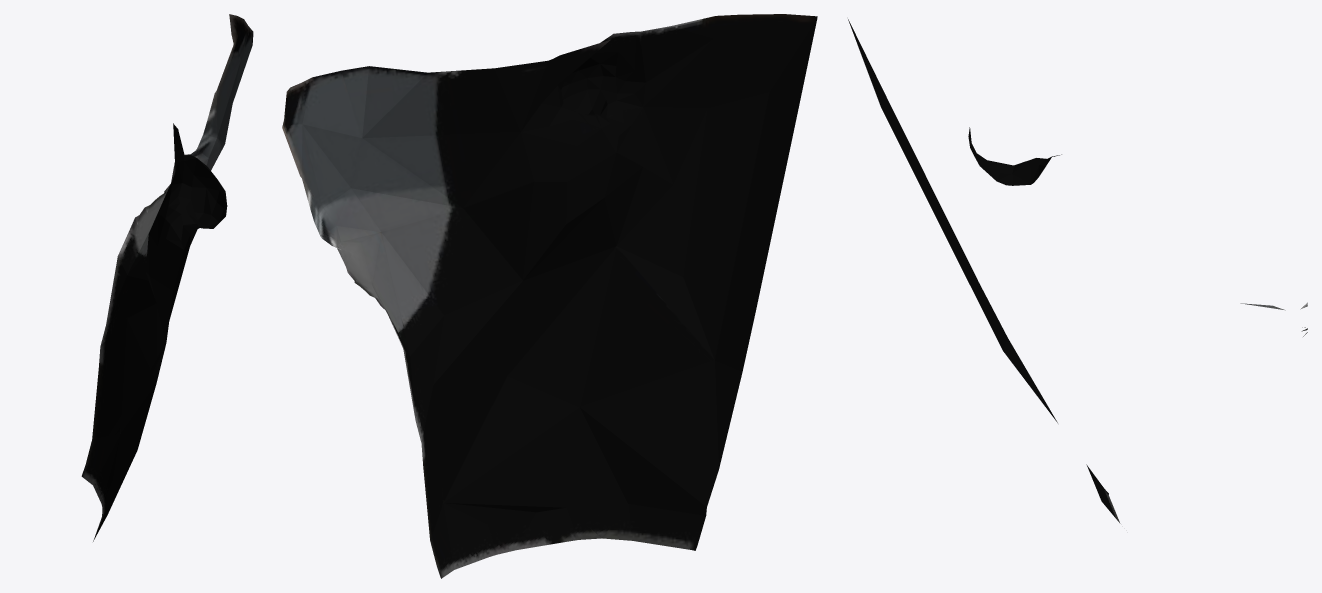
The picture shows the model from 3 angles, left to right: view 1: azimuth 30°, elevation 25°; view 2: azimuth 150°, elevation 25°; view 3: azimuth 270°, elevation 25°; orthographic projection. The views are drawn at different scales.
Size of the model in its own units: 2.54 by 3.35 by 2.92.
2 materials, 2 textured.
